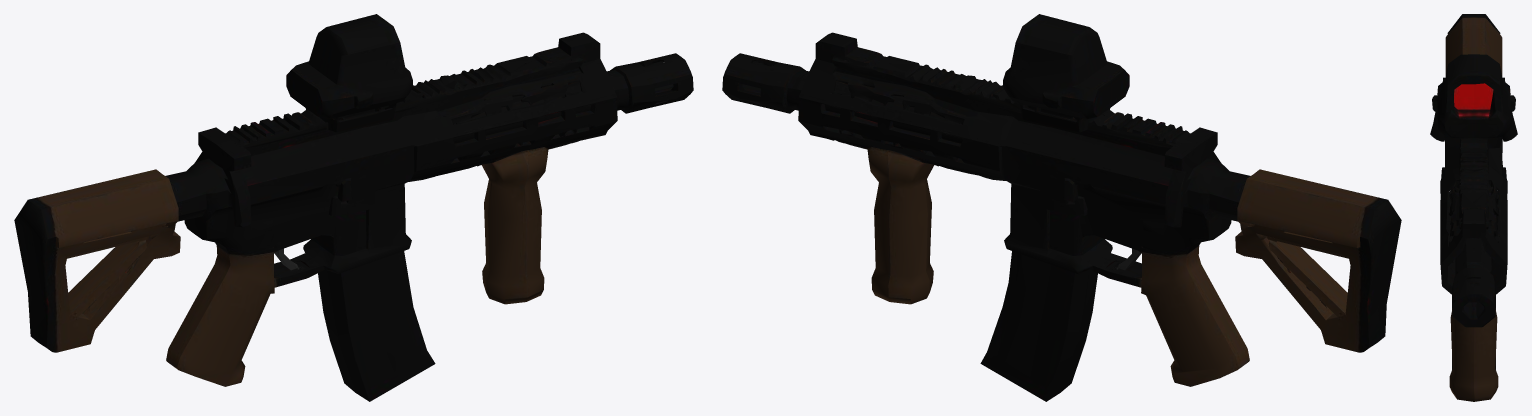
File: modern_tactical_carbine.glb
3 views of the same model, side by side, from view 1: azimuth 30°, elevation 25°; view 2: azimuth 150°, elevation 25°; view 3: azimuth 270°, elevation 25° (orthographic). The views are drawn at different scales.
Parts seen in each view (by area): view 1: world; view 2: world; view 3: world.
Boxes of the visible parts, left/top/right/bottom form: world: left=14, top=14, right=693, bottom=401; world: left=722, top=14, right=1401, bottom=401; world: left=1430, top=14, right=1517, bottom=401.
Size of the model in its own units: 1 by 0.5368 by 0.1355.
Materials: 1 (1 with a texture image).
